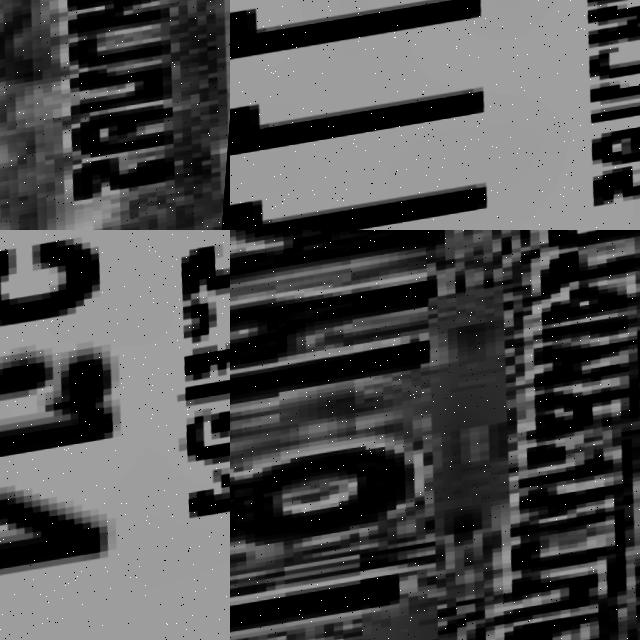license-plate: (230, 230, 640, 640), (230, 0, 640, 230), (0, 230, 230, 640), (0, 0, 230, 230)
